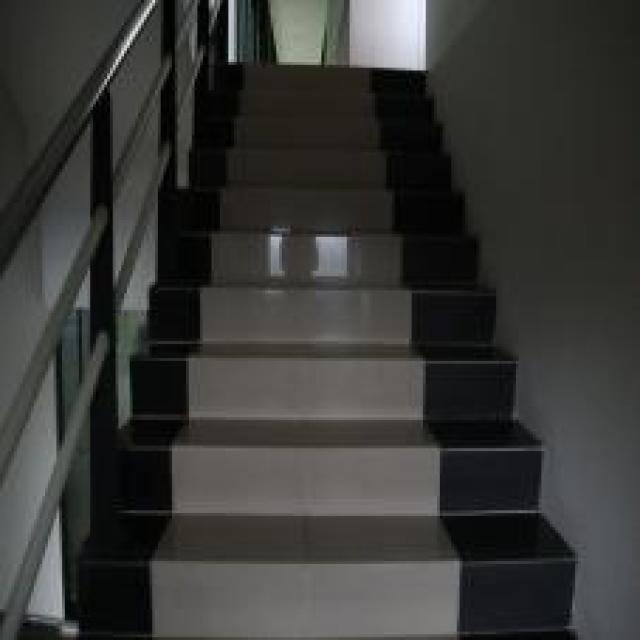upstair: (190, 156, 463, 523)
